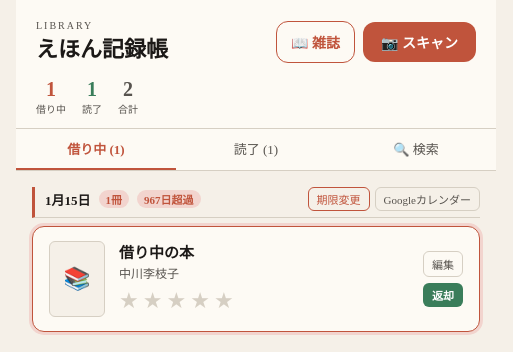
MainApp — tabs › when there are returned books, the history tab should list them
Click the button "読了 (1)" at point(256, 150), box 176,129 -> 336,170
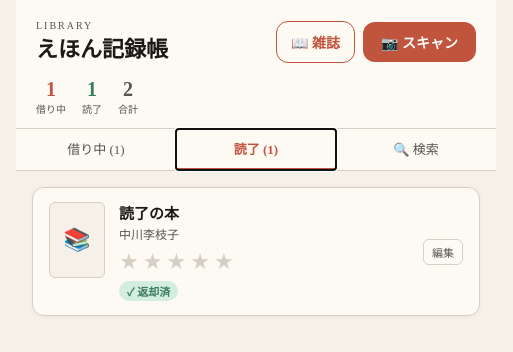
Result: the text "読了の本" is shown at 119,206 -> 179,222
Result: the text "借り中の本" is gone
